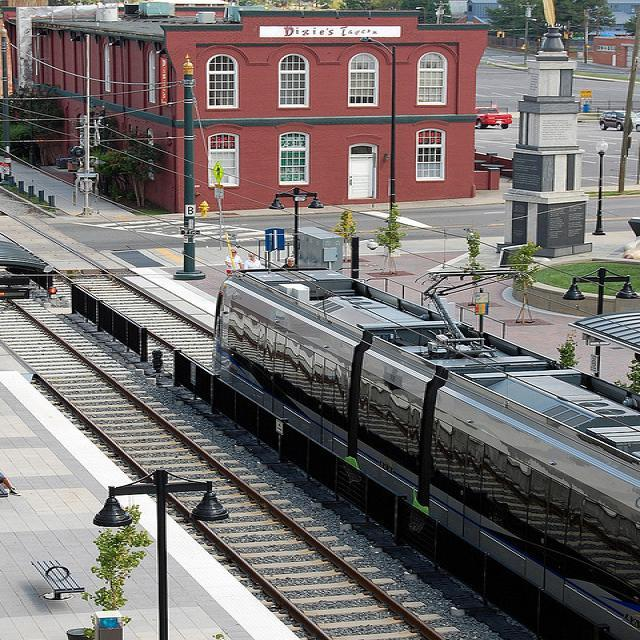fire_hydrant: (198, 200, 210, 217)
